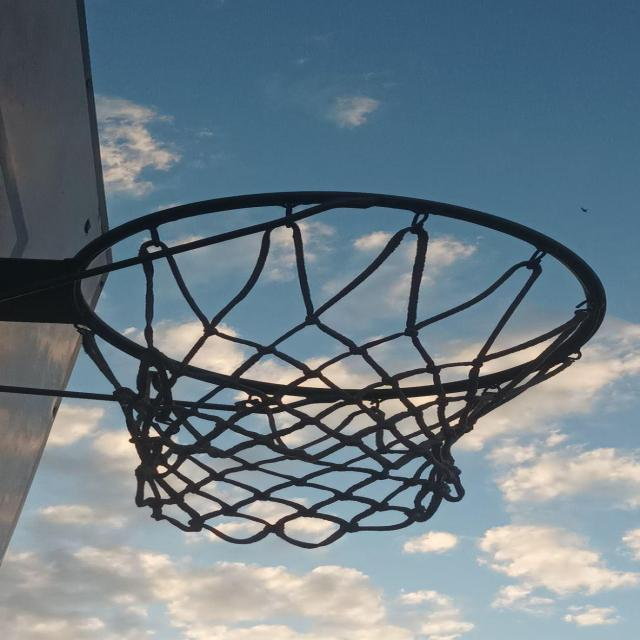hoop: (16, 176, 640, 550)
